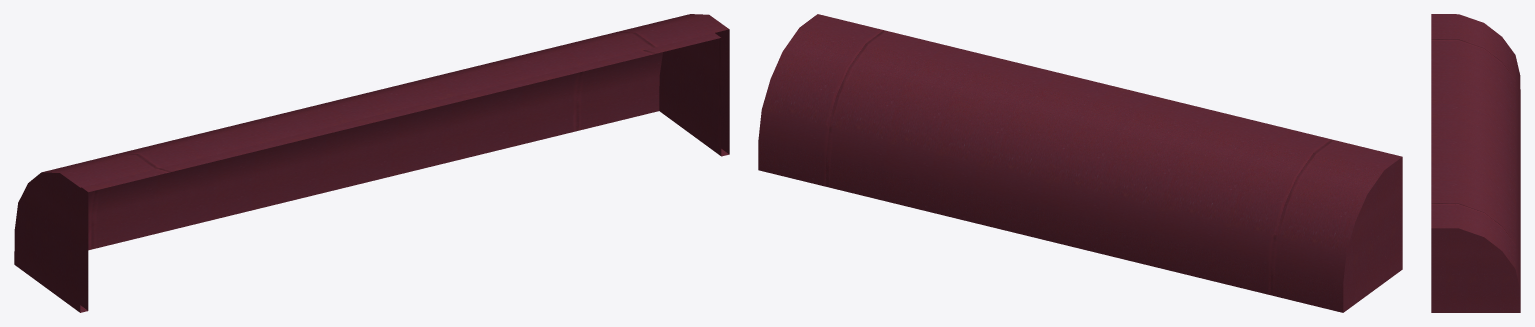
3 renders of one model, left to right at view 1: azimuth 30°, elevation 25°; view 2: azimuth 150°, elevation 25°; view 3: azimuth 270°, elevation 25°, orthographic. The views are drawn at different scales.
Visible parts, largest first — view 1: Awn; view 2: Awn; view 3: Awn.
Boxes of the visible parts, x1,y1,x2,y2 form: Awn: (14,14,729,312); Awn: (758,14,1402,312); Awn: (1431,14,1520,312).
Size of the model in its own units: 1278 by 236 by 225.
